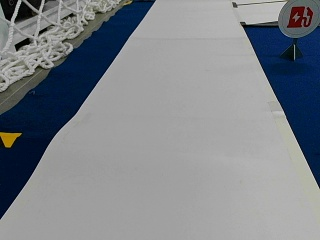battery: (277, 0, 319, 38)
